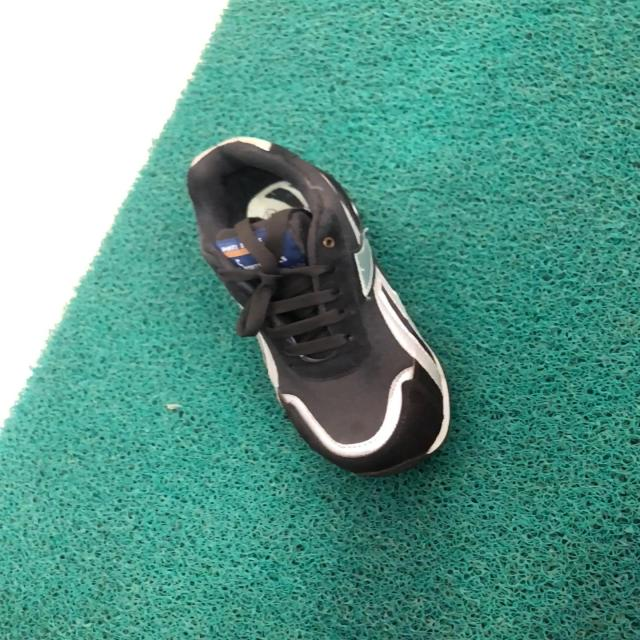shoe: (185, 138, 453, 480)
